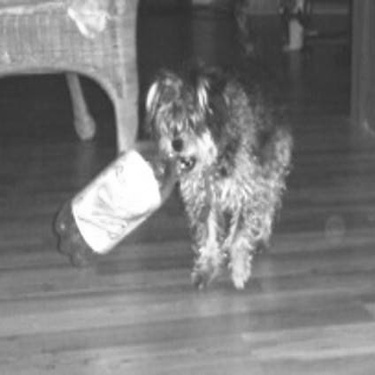dog: (112, 45, 301, 297)
